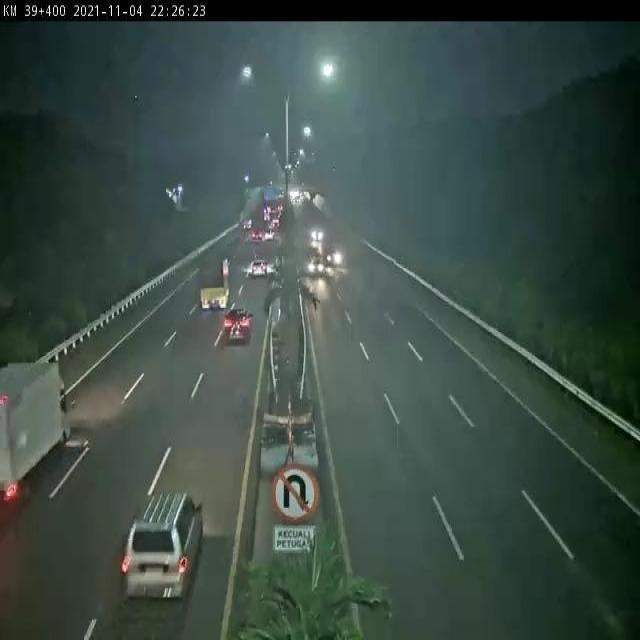Car: (122, 484, 204, 601), (222, 310, 253, 345), (252, 258, 268, 276)
Truck: (0, 360, 67, 498), (199, 254, 230, 312)
